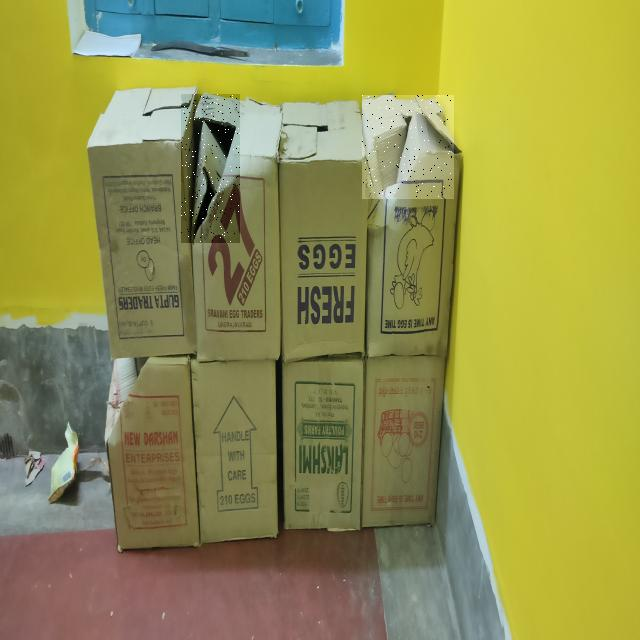squeeze: (362, 96, 452, 197), (181, 94, 240, 242)
